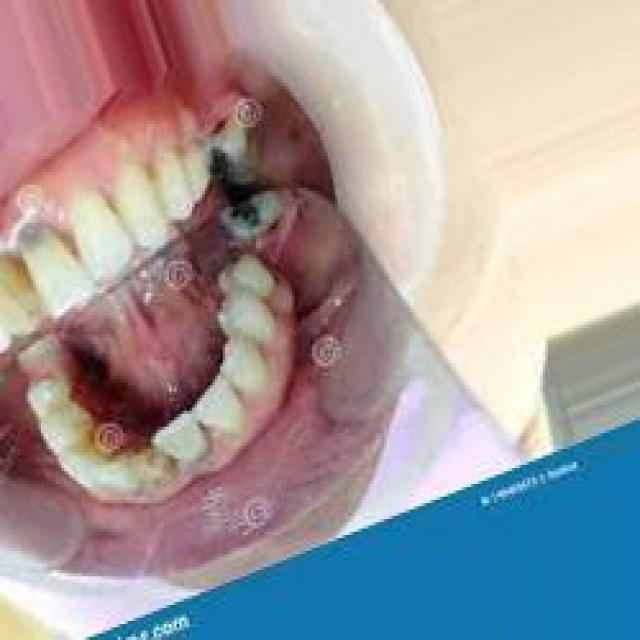caries: (192, 132, 250, 194), (216, 188, 271, 248), (124, 442, 182, 498)
